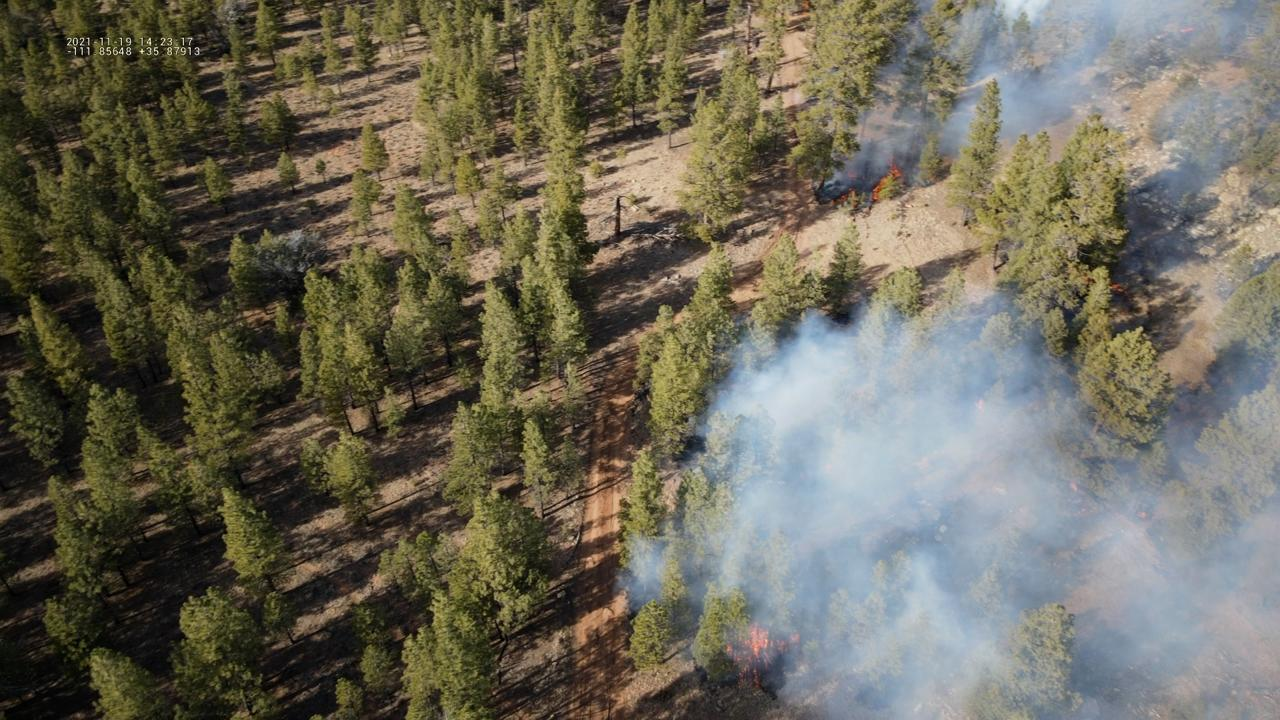fire: (715, 621, 803, 689), (871, 164, 903, 203), (1103, 281, 1128, 297), (801, 0, 812, 17), (847, 167, 859, 179), (839, 194, 848, 203), (829, 199, 837, 207)
smoke: (614, 273, 1280, 720), (815, 0, 1280, 209)
